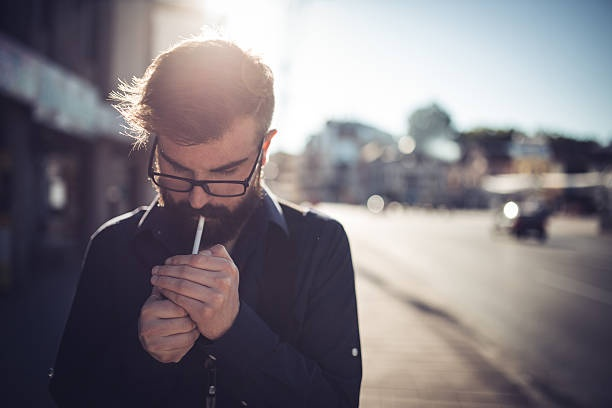sigaretta: (187, 213, 213, 261)
